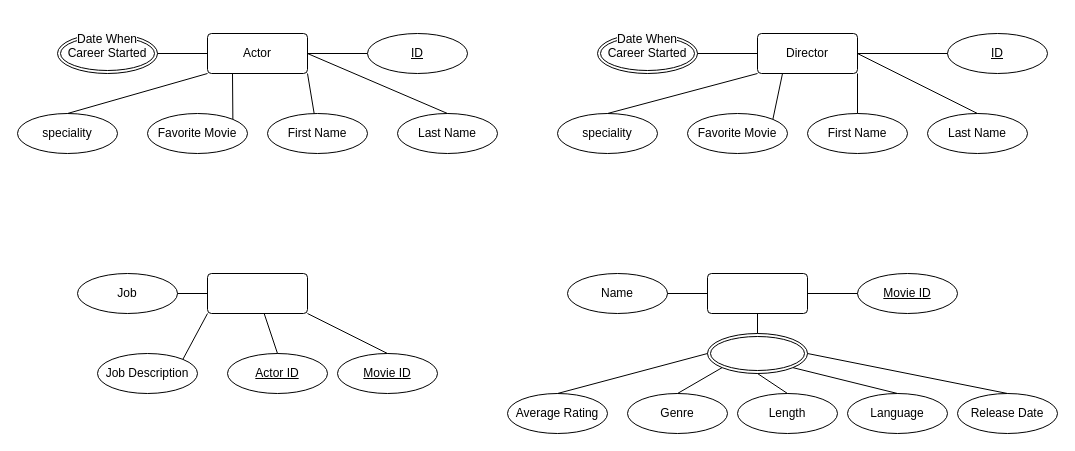
This 1075x451 diagram has some shape labels left out. The box of each missing label's shape, as (x1, y1, x2, y2) in pixels:
Cast: (206, 272, 308, 314)
Movie: (706, 272, 808, 314)
Movie Details: (706, 332, 808, 374)
